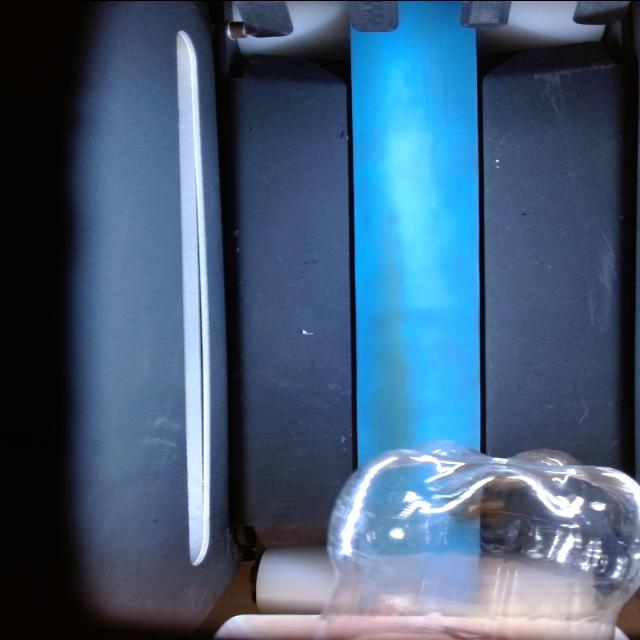bottom: (306, 442, 640, 640)
